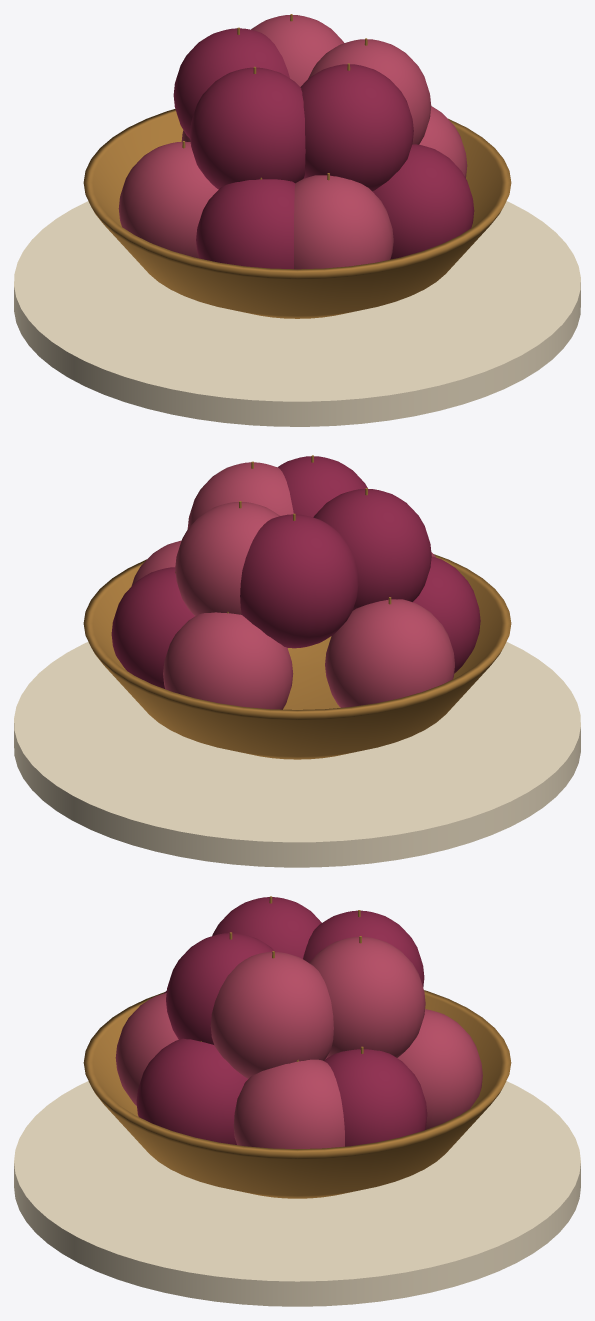
Rendered from fresh-plums-v1.glb.
The picture shows the model from 3 angles, top to bottom: view 1: azimuth 30°, elevation 25°; view 2: azimuth 150°, elevation 25°; view 3: azimuth 270°, elevation 25°; orthographic projection.
Visible parts, largest first — view 1: fresh-plums-concept; view 2: fresh-plums-concept; view 3: fresh-plums-concept.
Boxes of the visible parts, box(x1,y1,x2,y2) form: fresh-plums-concept: box(14, 14, 580, 426); fresh-plums-concept: box(14, 455, 580, 867); fresh-plums-concept: box(14, 896, 580, 1306).
Size of the model in its own units: 2.44 by 1.25 by 2.44.
